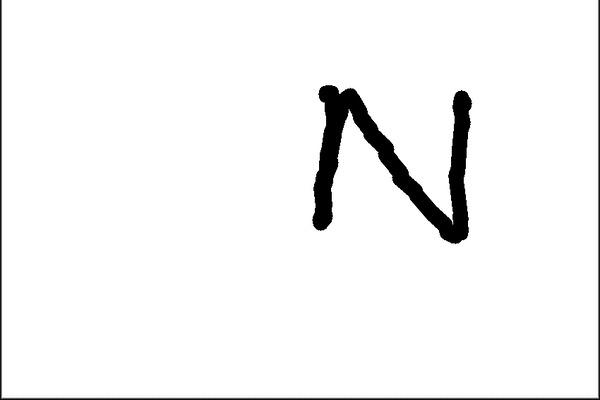N: (302, 76, 478, 252)
